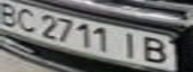1: (90, 24, 115, 54), (69, 20, 93, 48)
2: (33, 11, 60, 40)
7: (54, 16, 75, 44)
B: (136, 34, 175, 65), (0, 0, 24, 28)
C: (12, 6, 42, 33)
I: (115, 29, 145, 61)
